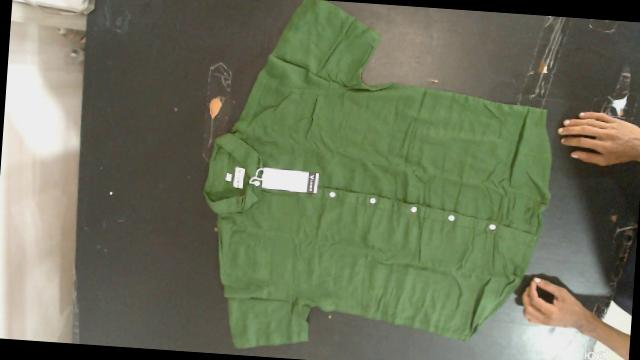new-garment: (203, 0, 550, 347)
